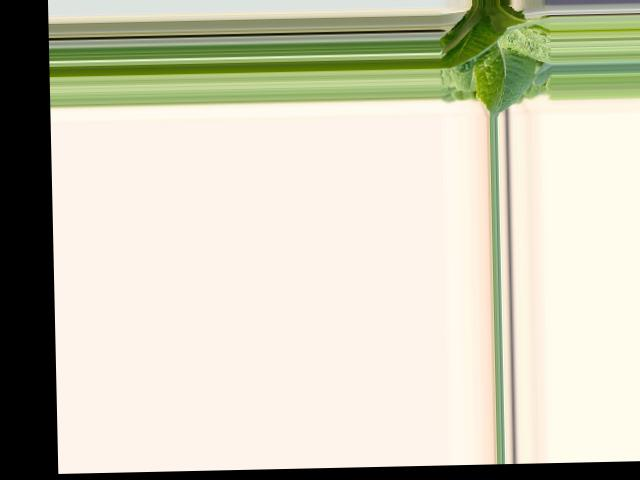lettuce: (440, 3, 541, 107)
